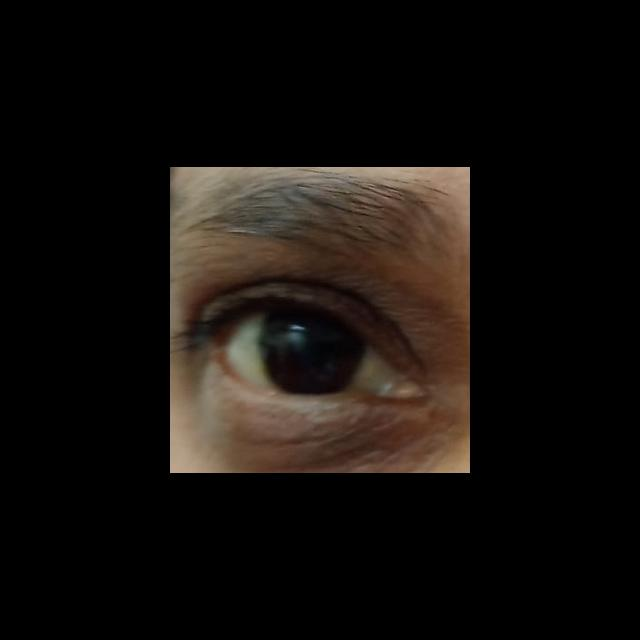eye: (225, 301, 400, 400)
iris: (262, 305, 363, 396)
